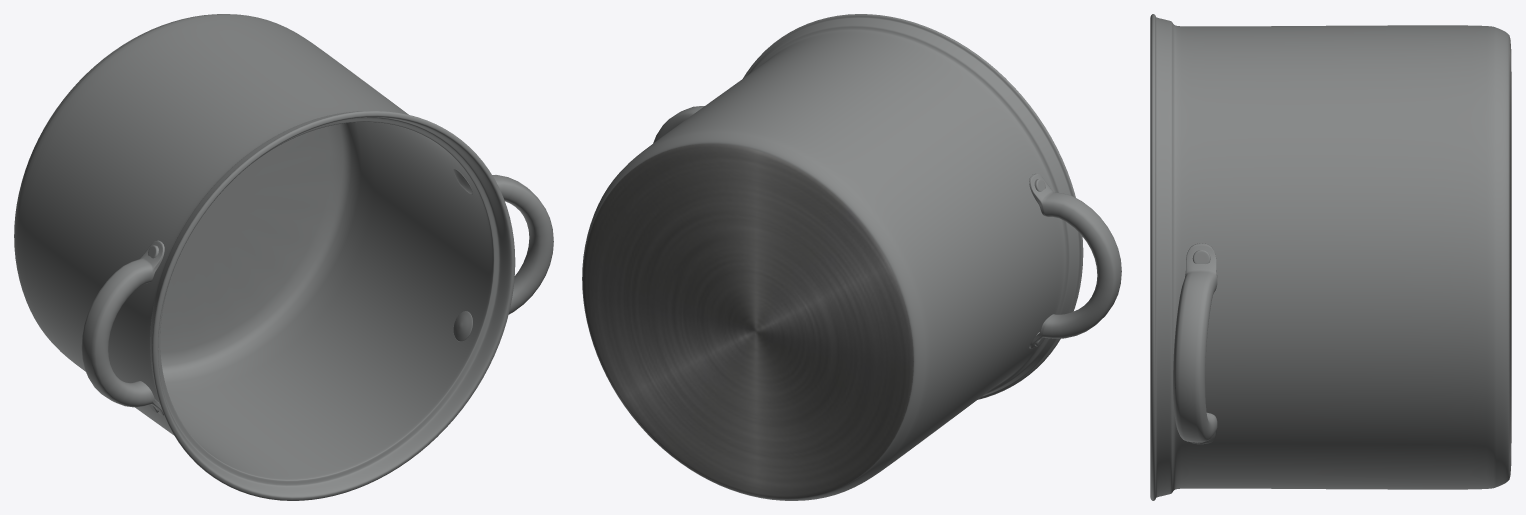
File: 8_quart_pot.obj
The picture shows the model from 3 angles, left to right: view 1: azimuth 30°, elevation 25°; view 2: azimuth 150°, elevation 25°; view 3: azimuth 270°, elevation 25°; orthographic projection. The views are drawn at different scales.
Visible parts, largest first — view 1: _quart_pot group1; view 2: _quart_pot group1; view 3: _quart_pot group1.
Boxes of the visible parts, x1=… form: _quart_pot group1: x1=14, y1=14, x2=553, y2=500; _quart_pot group1: x1=582, y1=14, x2=1121, y2=500; _quart_pot group1: x1=1150, y1=14, x2=1511, y2=500.
Bounding box in the file's own units: 0.3074 × 0.2392 × 0.1775.
1 material, 1 textured.
